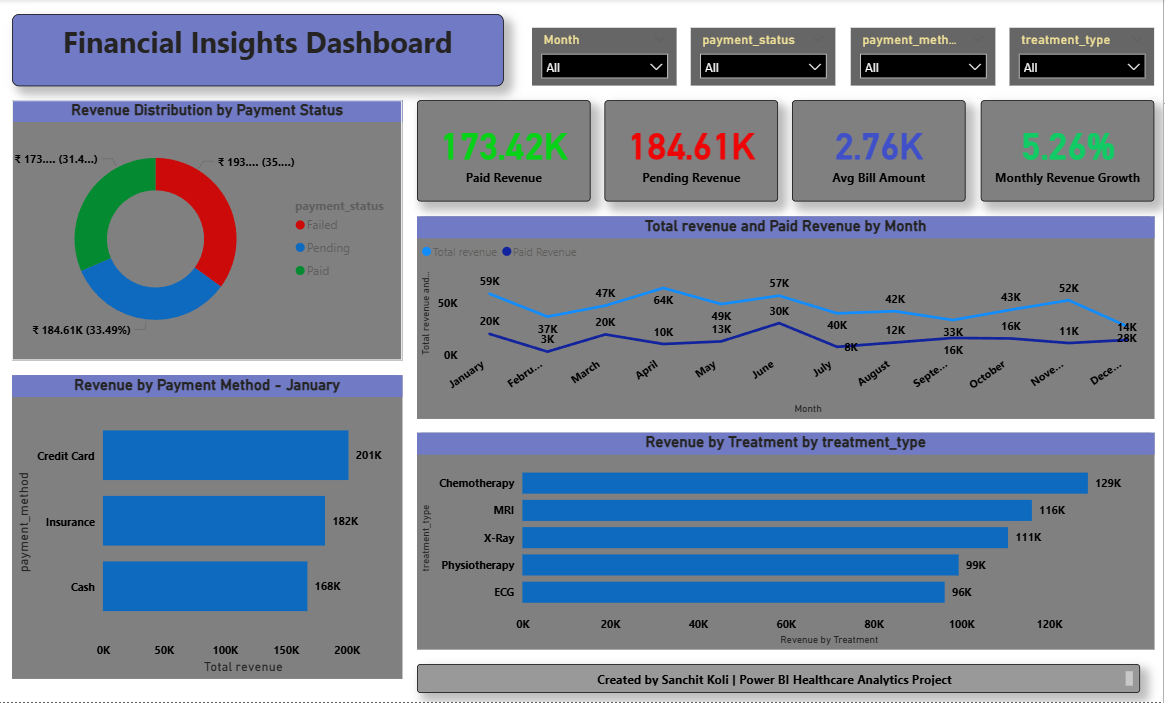

The dashboard page shown, as its layout file describes it:
{"tool":"powerbi","page":{"name":"Financial Insights","canvas":[1290,778],"ordinal":1},"visuals":[{"type":"textbox","box":[16,16,544,80],"z":0},{"type":"card","fields":{"Values":["MeasureTable.Paid Revenue"]},"box":[464,112,192,112],"z":1000},{"type":"card","fields":{"Values":["MeasureTable.Pending Revenue"]},"box":[672,112,192,112],"z":2000},{"type":"card","fields":{"Values":["MeasureTable.Avg Bill Amount"]},"box":[880,112,192,112],"z":3000},{"type":"card","fields":{"Values":["MeasureTable.Monthly Revenue Growth"]},"box":[1088,112,192,112],"z":4000},{"type":"lineChart","fields":{"Category":["DateTable.Month"],"Y":["MeasureTable.Total revenue","MeasureTable.Paid Revenue"]},"box":[464,240,816,224],"z":5000},{"type":"donutChart","title":"Revenue Distribution by Payment Status","fields":{"Category":["billing.payment_status"],"Y":["Sum(billing.amount)"]},"box":[16,112,432,288],"z":6000},{"type":"clusteredBarChart","title":"Revenue by Payment Method - January","fields":{"Category":["billing.payment_method"],"Y":["MeasureTable.Total revenue"]},"box":[16,416,432,336],"z":7000},{"type":"clusteredBarChart","fields":{"Category":["treatments.treatment_type"],"Y":["treatments.Revenue by Treatment"]},"box":[464,480,816,240],"z":8000},{"type":"slicer","fields":{"Values":["DateTable.Month"]},"box":[592,32,160,64],"z":9000},{"type":"slicer","fields":{"Values":["billing.payment_status"]},"box":[768,32,160,64],"z":10000},{"type":"slicer","fields":{"Values":["billing.payment_method"]},"box":[944,32,160,64],"z":11000},{"type":"slicer","fields":{"Values":["treatments.treatment_type"]},"box":[1120,32,160,64],"z":12000},{"type":"textbox","box":[464,736,800,32],"z":12001}]}

Visuals, with their boxes in screenshot pixels (x1, y1, x2, y2), scaled from the page's 1290x778 canvas onto the 1165x703 screenshot:
textbox: box=[14, 14, 506, 87]
card - MeasureTable.Paid Revenue: box=[419, 101, 592, 202]
card - MeasureTable.Pending Revenue: box=[607, 101, 780, 202]
card - MeasureTable.Avg Bill Amount: box=[795, 101, 968, 202]
card - MeasureTable.Monthly Revenue Growth: box=[983, 101, 1156, 202]
lineChart - DateTable.Month x MeasureTable.Total revenue: box=[419, 217, 1156, 419]
"Revenue Distribution by Payment Status" donutChart: box=[14, 101, 405, 361]
"Revenue by Payment Method - January" clusteredBarChart: box=[14, 376, 405, 680]
clusteredBarChart - treatments.treatment_type x treatments.Revenue by Treatment: box=[419, 434, 1156, 651]
slicer - DateTable.Month: box=[535, 29, 679, 87]
slicer - billing.payment_status: box=[694, 29, 838, 87]
slicer - billing.payment_method: box=[853, 29, 997, 87]
slicer - treatments.treatment_type: box=[1011, 29, 1156, 87]
textbox: box=[419, 665, 1142, 694]
